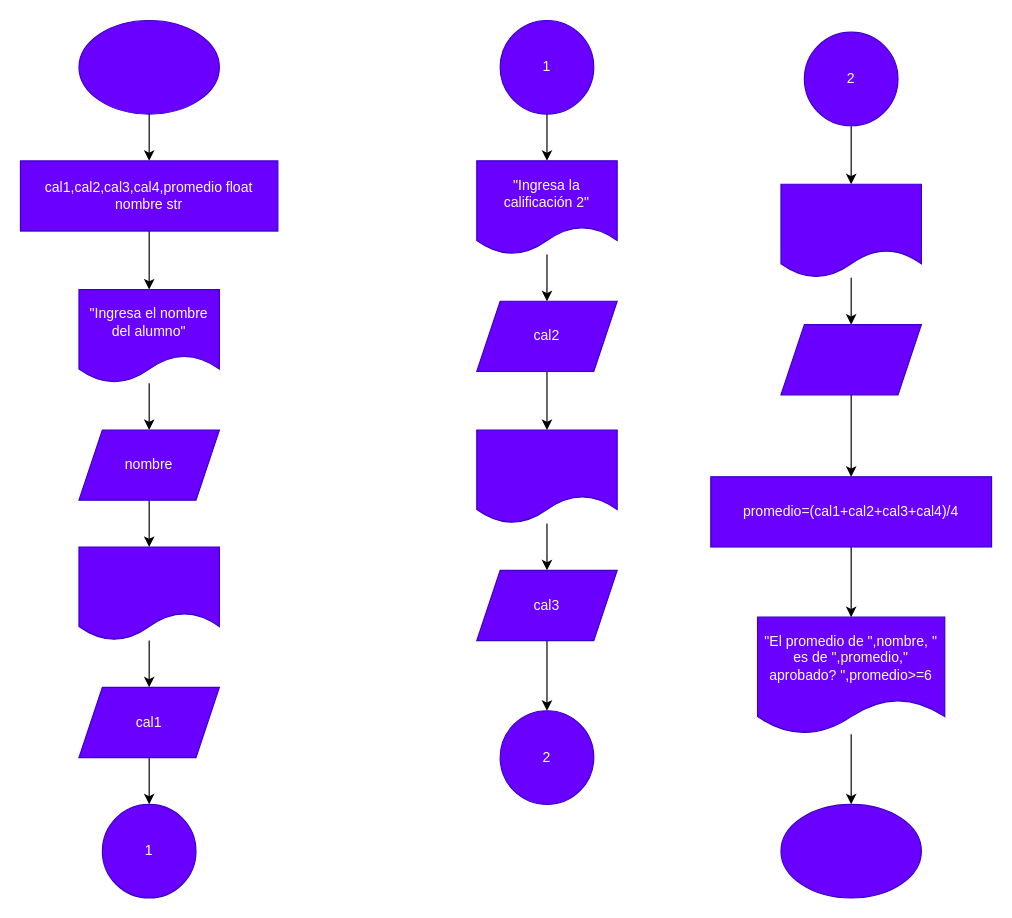
Image size: 1012x918. Some labels were removed from this diagram. Each missing label, with the centre of its shape:
"Ingresa la calificación 1": pixel 148 593
"Ingresa la calificación 3": pixel 546 476
"Ingresa la calificación 4": pixel 850 230
cal4: pixel 850 359
Fin: pixel 850 850
Inicio: pixel 148 66
